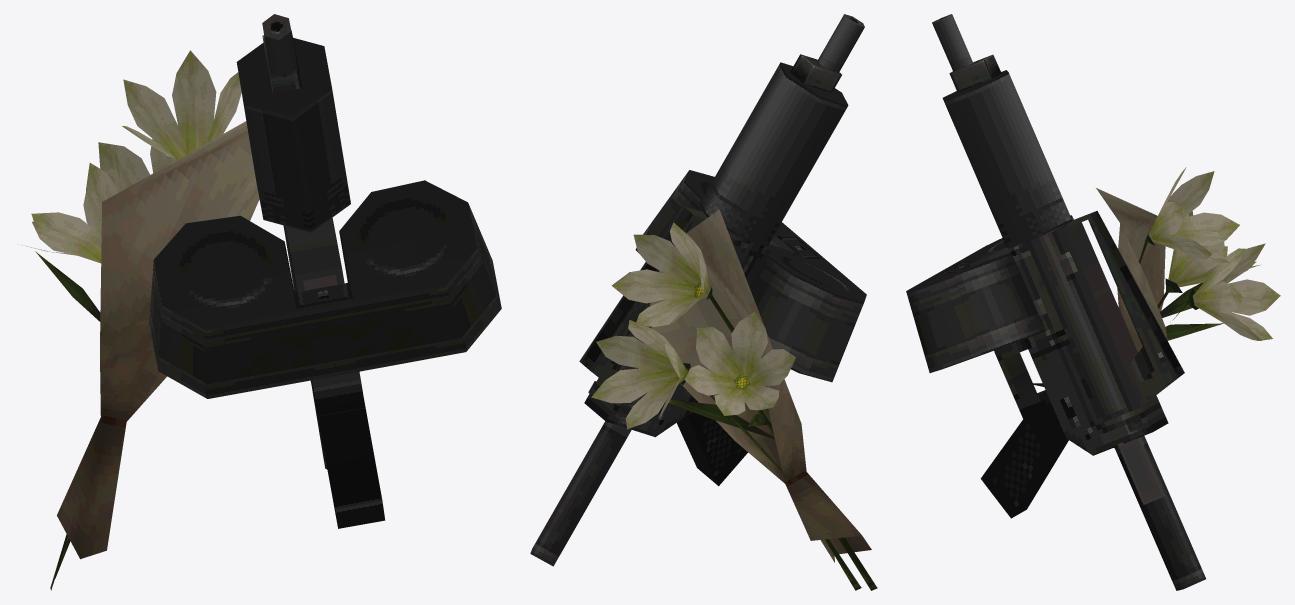
Rendered from ps2_save-icons_metalgearsolid3snakeeater.glb.
3 views of the same model, side by side, from view 1: azimuth 30°, elevation 25°; view 2: azimuth 150°, elevation 25°; view 3: azimuth 270°, elevation 25° (orthographic). The views are drawn at different scales.
Parts seen in each view (by area): view 1: mgs3.ico; view 2: mgs3.ico; view 3: mgs3.ico.
Part boxes in pixels (box(x1,y1,x2,y2)): mgs3.ico: box(21, 14, 501, 590); mgs3.ico: box(530, 14, 877, 590); mgs3.ico: box(906, 14, 1280, 590).
Size of the model in its own units: 2.81 by 4.48 by 3.09.
1 material, 1 textured.
